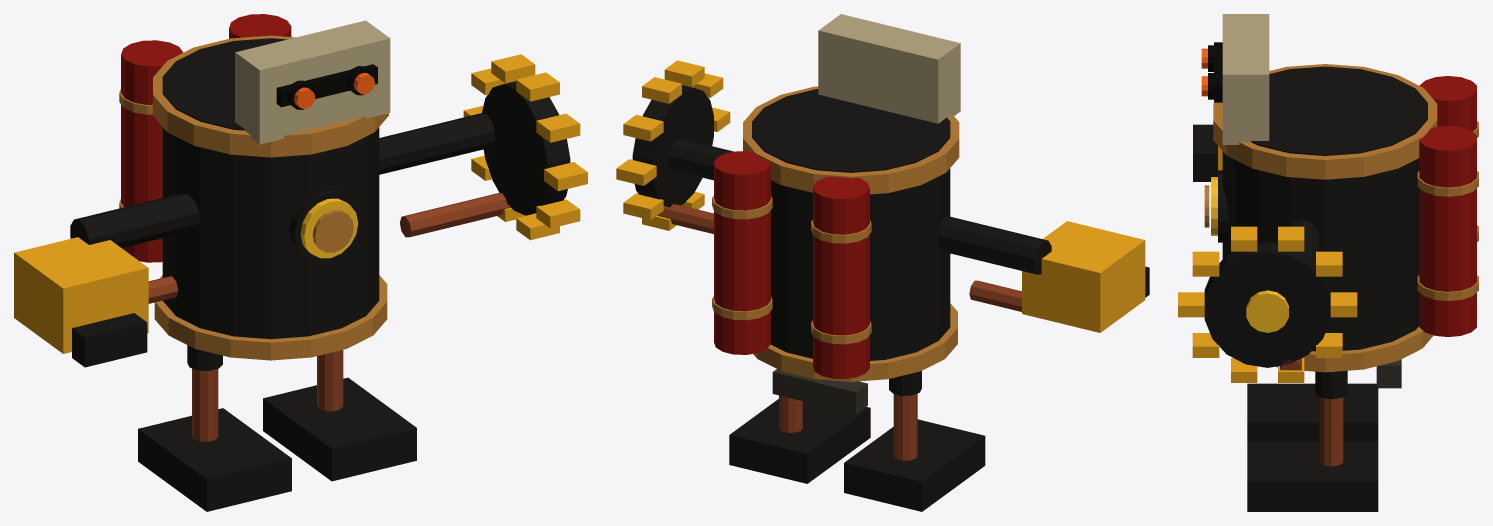
Rendered from ENEMY_ERB_Scrapper_ReadabilityUpgrade_LOD0.obj.
The picture shows the model from 3 angles, left to right: view 1: azimuth 30°, elevation 25°; view 2: azimuth 150°, elevation 25°; view 3: azimuth 270°, elevation 25°; orthographic projection. The views are drawn at different scales.
Visible parts, largest first — view 1: scrapper_hunched_blackened_boiler_torso, scrapper_cream_enamel_mask_plate, scrapper_left_hammer_head_attack_tell, scrapper_left_broad_blackened_iron_foot, scrapper_right_broad_blackened_iron_foot, scrapper_right_arm_cutter_wheel_blackened_disc, scrapper_left_backpack_danger_red_pressure_tank_shell, scrapper_upper_aged_brass_boiler_band, scrapper_lower_aged_brass_boiler_band, scrapper_left_upper_hammer_arm, scrapper_right_upper_cutter_arm, scrapper_left_hammer_blackened_striker_face (+16 smaller); view 2: scrapper_hunched_blackened_boiler_torso, scrapper_cream_enamel_mask_plate, scrapper_left_backpack_danger_red_pressure_tank_shell, scrapper_right_backpack_danger_red_pressure_tank_shell, scrapper_left_hammer_head_attack_tell, scrapper_left_broad_blackened_iron_foot, scrapper_right_broad_blackened_iron_foot, scrapper_right_arm_cutter_wheel_blackened_disc, scrapper_upper_aged_brass_boiler_band, scrapper_left_upper_hammer_arm, scrapper_lower_aged_brass_boiler_band, scrapper_shutdown_ready_fragment_socket_labels (+15 smaller); view 3: scrapper_hunched_blackened_boiler_torso, scrapper_right_arm_cutter_wheel_blackened_disc, scrapper_right_backpack_danger_red_pressure_tank_shell, scrapper_right_broad_blackened_iron_foot, scrapper_left_broad_blackened_iron_foot, scrapper_upper_aged_brass_boiler_band, scrapper_cream_enamel_mask_plate, scrapper_lower_aged_brass_boiler_band, scrapper_left_backpack_danger_red_pressure_tank_shell, scrapper_right_lower_copper_piston_leg, scrapper_right_arm_cutter_wheel_amber_warning_hub, scrapper_left_hammer_blackened_striker_face (+18 smaller).
Part boxes in pixels (left/top/right/bottom): scrapper_hunched_blackened_boiler_torso: left=162, top=38, right=379, bottom=339; scrapper_cream_enamel_mask_plate: left=235, top=20, right=390, bottom=144; scrapper_left_hammer_head_attack_tell: left=14, top=237, right=148, bottom=353; scrapper_left_broad_blackened_iron_foot: left=138, top=408, right=291, bottom=511; scrapper_right_broad_blackened_iron_foot: left=263, top=377, right=416, bottom=481; scrapper_right_arm_cutter_wheel_blackened_disc: left=482, top=81, right=570, bottom=215; scrapper_left_backpack_danger_red_pressure_tank_shell: left=121, top=40, right=183, bottom=262; scrapper_upper_aged_brass_boiler_band: left=153, top=35, right=388, bottom=157; scrapper_lower_aged_brass_boiler_band: left=154, top=275, right=387, bottom=360; scrapper_left_upper_hammer_arm: left=70, top=193, right=199, bottom=247; scrapper_right_upper_cutter_arm: left=379, top=113, right=494, bottom=174; scrapper_left_hammer_blackened_striker_face: left=72, top=313, right=147, bottom=367; scrapper_hunched_blackened_boiler_torso: left=752, top=89, right=950, bottom=360; scrapper_cream_enamel_mask_plate: left=818, top=14, right=960, bottom=123; scrapper_left_backpack_danger_red_pressure_tank_shell: left=813, top=176, right=869, bottom=378; scrapper_right_backpack_danger_red_pressure_tank_shell: left=714, top=151, right=770, bottom=354; scrapper_left_hammer_head_attack_tell: left=1022, top=221, right=1145, bottom=332; scrapper_left_broad_blackened_iron_foot: left=844, top=419, right=985, bottom=511; scrapper_right_broad_blackened_iron_foot: left=729, top=399, right=870, bottom=483; scrapper_right_arm_cutter_wheel_blackened_disc: left=632, top=85, right=713, bottom=207; scrapper_upper_aged_brass_boiler_band: left=743, top=86, right=959, bottom=194; scrapper_left_upper_hammer_arm: left=938, top=216, right=1051, bottom=274; scrapper_lower_aged_brass_boiler_band: left=753, top=303, right=957, bottom=381; scrapper_shutdown_ready_fragment_socket_labels: left=772, top=369, right=867, bottom=413; scrapper_hunched_blackened_boiler_torso: left=1222, top=66, right=1427, bottom=351; scrapper_right_arm_cutter_wheel_blackened_disc: left=1204, top=241, right=1330, bottom=367; scrapper_right_backpack_danger_red_pressure_tank_shell: left=1419, top=126, right=1476, bottom=336; scrapper_right_broad_blackened_iron_foot: left=1247, top=441, right=1378, bottom=511; scrapper_left_broad_blackened_iron_foot: left=1247, top=383, right=1378, bottom=441; scrapper_upper_aged_brass_boiler_band: left=1213, top=64, right=1437, bottom=179; scrapper_cream_enamel_mask_plate: left=1222, top=14, right=1269, bottom=144; scrapper_lower_aged_brass_boiler_band: left=1276, top=326, right=1433, bottom=372; scrapper_left_backpack_danger_red_pressure_tank_shell: left=1419, top=76, right=1476, bottom=131; scrapper_right_lower_copper_piston_leg: left=1319, top=397, right=1343, bottom=466; scrapper_right_arm_cutter_wheel_amber_warning_hub: left=1246, top=290, right=1288, bottom=332; scrapper_left_hammer_blackened_striker_face: left=1193, top=124, right=1217, bottom=181.
Size of the model in its own units: 1.78 by 1.49 by 0.9657.
